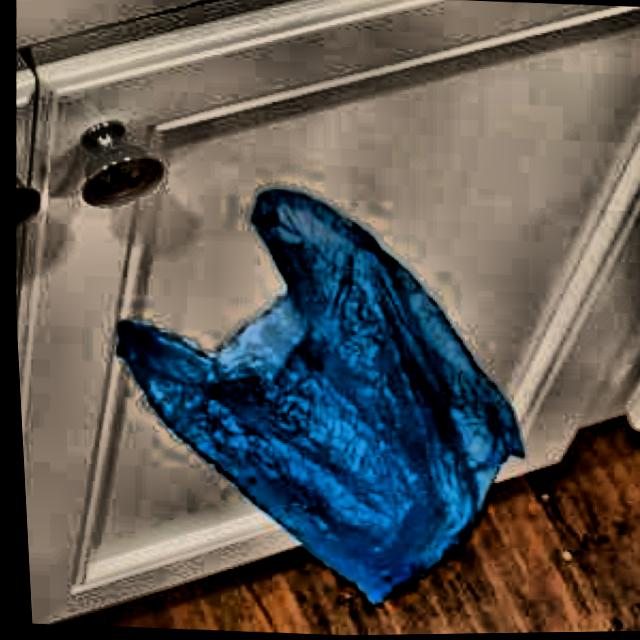Plastic: (43, 153, 572, 640)
